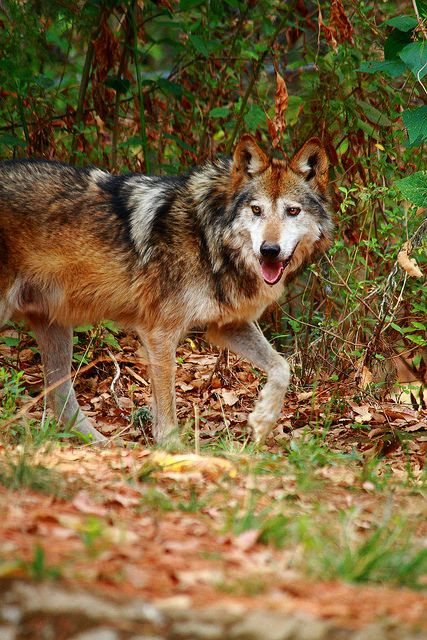Lobo: (5, 134, 358, 460)
